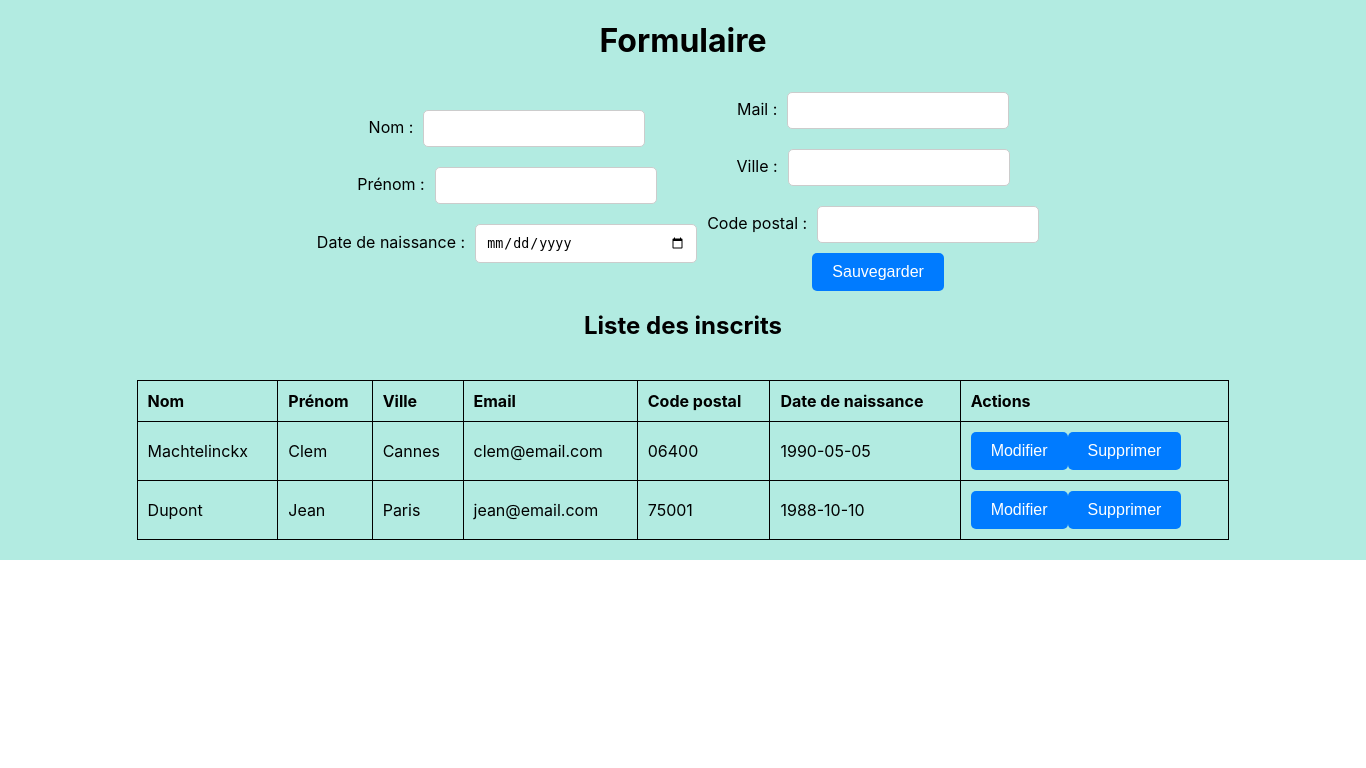
Test: Form › prefills the form, updates a user through admin PATCH and leaves edit mode
Click the button "Modifier" in the row of "Machtelinckx" at x=1019, y=451, box [971,432,1068,470]
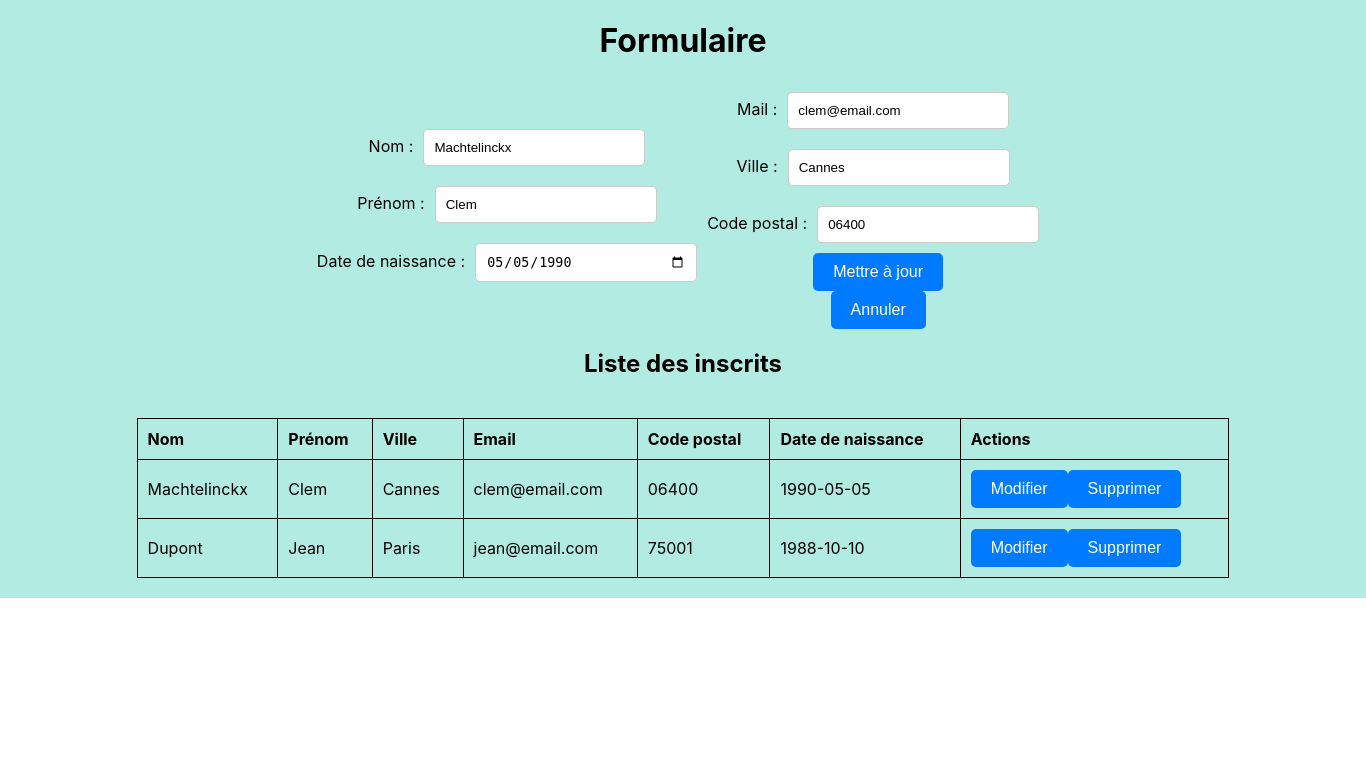
Expected: the field labelled "Nom :" holds "Machtelinckx", [423,129,645,166]
Expected: the date field labelled "Date de naissance :" holds "1990-05-05", [475,243,697,282]
Expected: the button showing "mettre à jour" is shown, [813,253,943,291]
Replace the text in the field labelled "Ville :" with "Lyon" at x=899, y=167, box [788,149,1010,186]
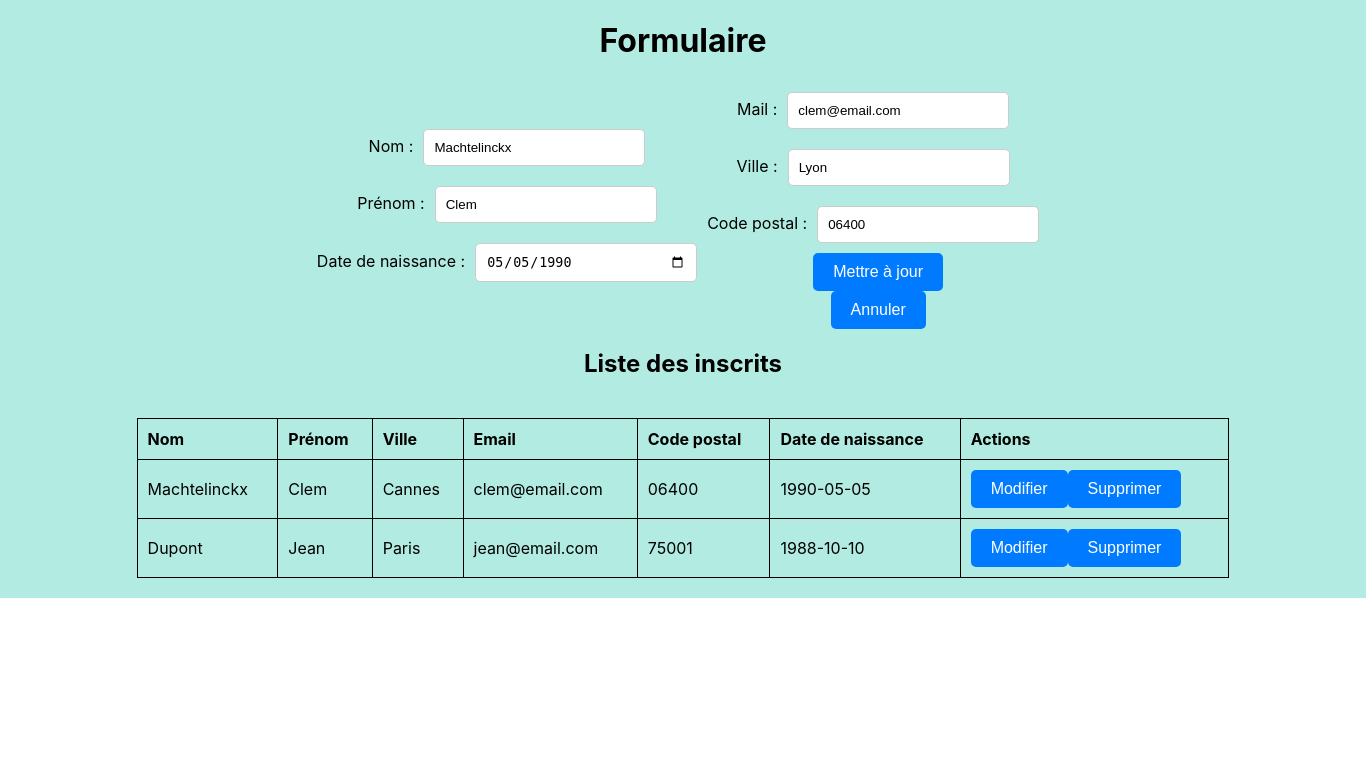
Replace the text in the field labelled "Code postal :" with "69002" at x=928, y=224, box [817,206,1039,243]
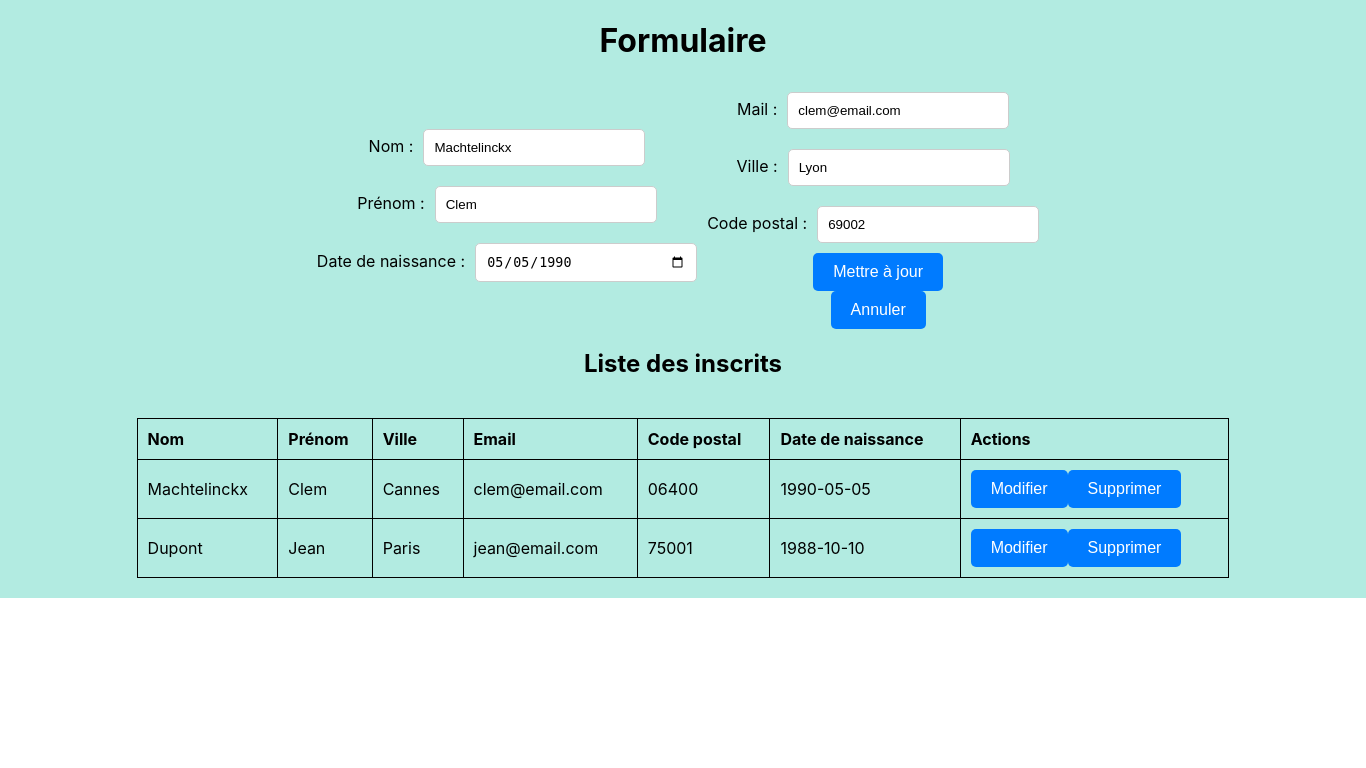
Click the button showing "mettre à jour" at x=878, y=272, box [813,253,943,291]
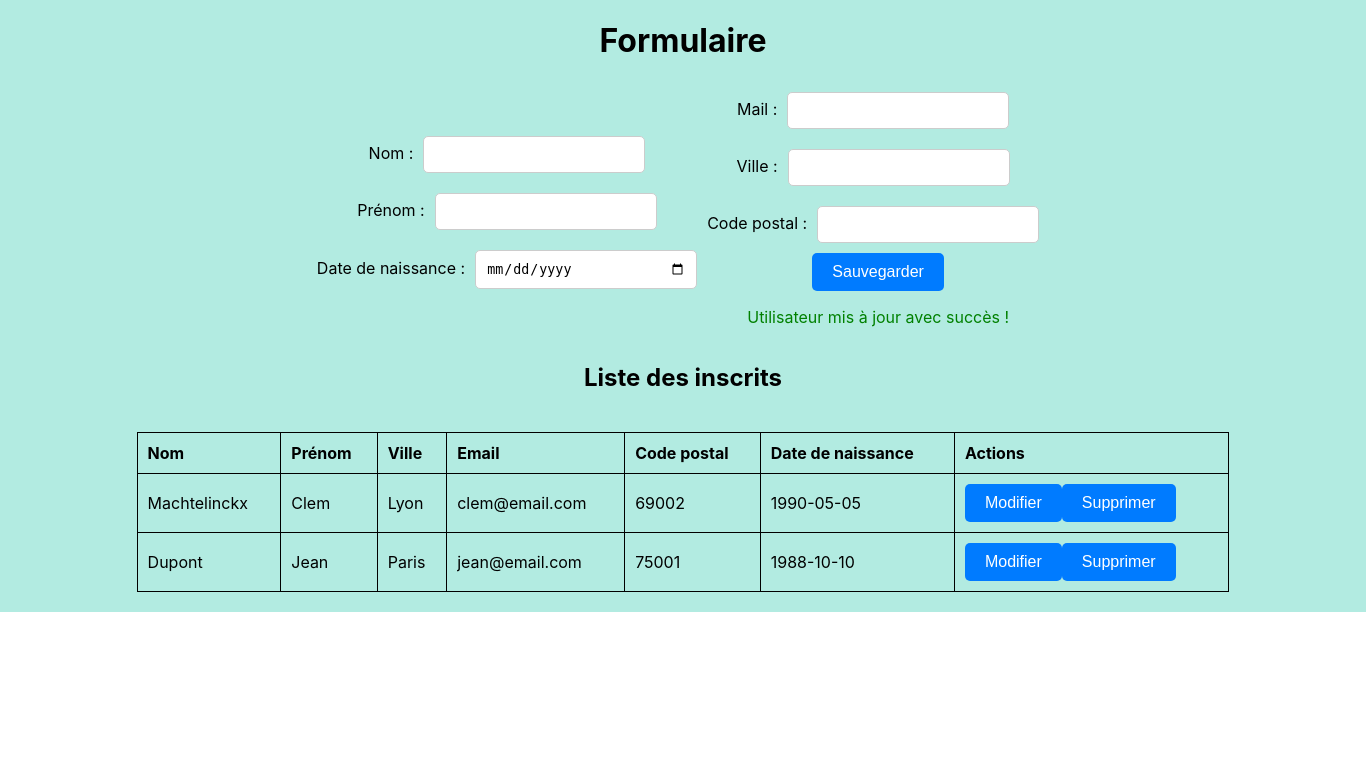
Expected: the message shows "Utilisateur mis à jour avec succès", [747,307,1009,327]
Expected: the text "Lyon" is shown, [377,473,447,532]
Expected: the text "69002" is shown, [625,473,760,532]
